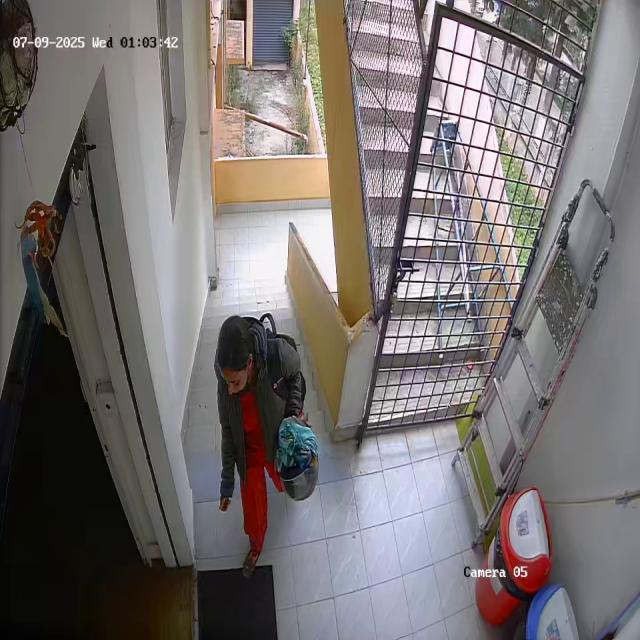person: (205, 312, 299, 571)
